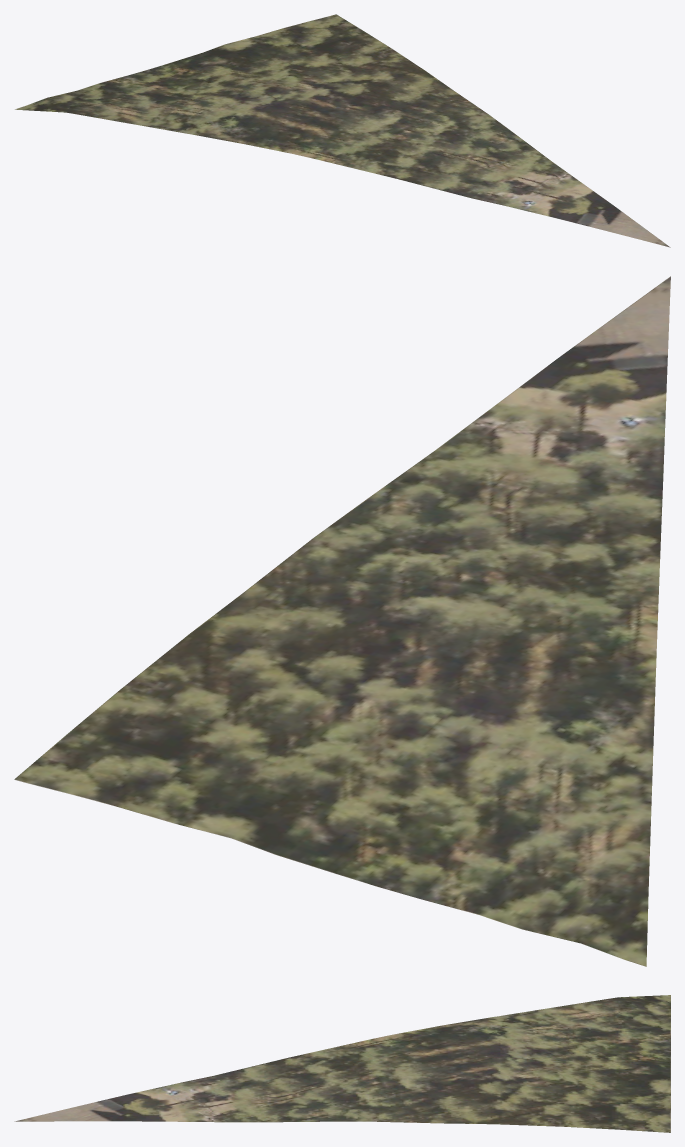
File: CM_Terrain_24490049_6817132.fbx
3 renders of one model, top to bottom at view 1: azimuth 30°, elevation 25°; view 2: azimuth 150°, elevation 25°; view 3: azimuth 270°, elevation 25°, orthographic. The views are drawn at different scales.
Parts seen in each view (by area): view 1: CM_Terrain_24490049_6817132_LOD0; view 2: CM_Terrain_24490049_6817132_LOD0; view 3: CM_Terrain_24490049_6817132_LOD0.
Part boxes in pixels (bbox=[...]): CM_Terrain_24490049_6817132_LOD0: bbox=[15, 14, 670, 247]; CM_Terrain_24490049_6817132_LOD0: bbox=[14, 276, 670, 966]; CM_Terrain_24490049_6817132_LOD0: bbox=[14, 995, 670, 1132].
Size of what is drawn, in the model's own units: 44.54 by 3.84 by 80.13.
